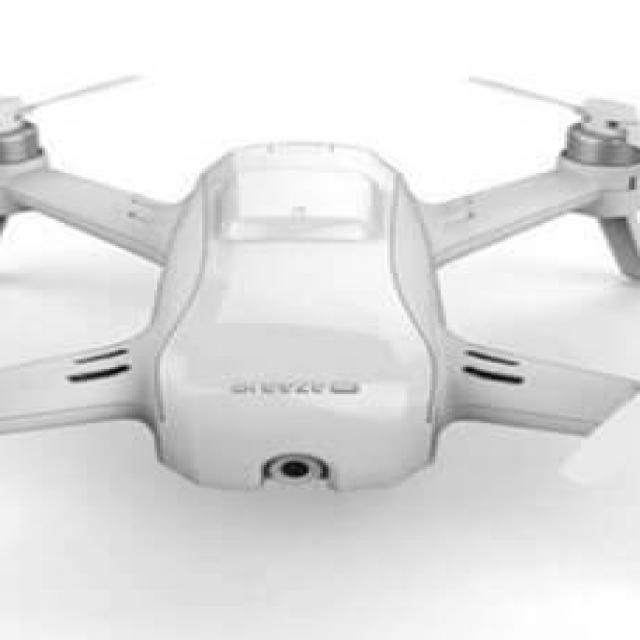drone: (0, 73, 640, 573)
